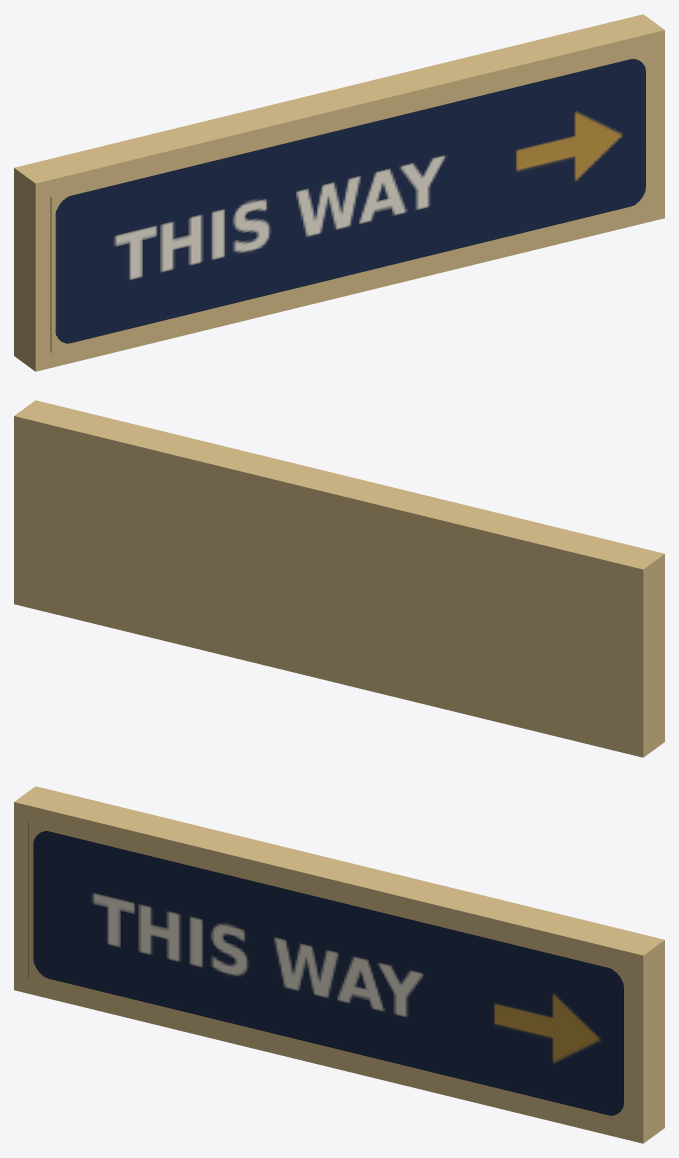
The model's file is SM_QUE_Sign_ThisWay.fbx.
3 renders of one model, top to bottom at view 1: azimuth 30°, elevation 25°; view 2: azimuth 150°, elevation 25°; view 3: azimuth 330°, elevation 25°, orthographic.
Visible parts, largest first — view 1: SM_QUE_Sign_ThisWay; view 2: SM_QUE_Sign_ThisWay; view 3: SM_QUE_Sign_ThisWay.
Boxes of the visible parts, x1,y1,x2,y2 form: SM_QUE_Sign_ThisWay: (14, 14, 664, 371); SM_QUE_Sign_ThisWay: (14, 400, 664, 757); SM_QUE_Sign_ThisWay: (14, 786, 664, 1143).
Bounding box in the file's own units: 0.84 × 0.24 × 0.0505.
